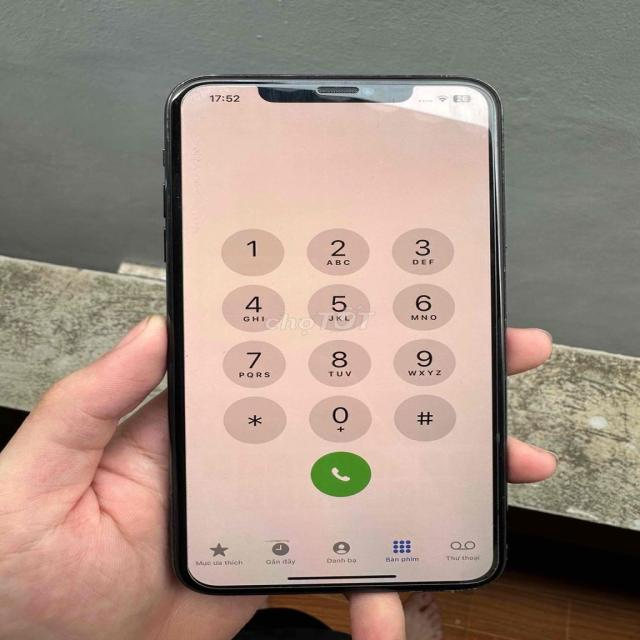gen_11: (163, 74, 505, 595)
scratch: (174, 65, 508, 92), (148, 105, 183, 213), (462, 577, 488, 593), (481, 561, 503, 577)
